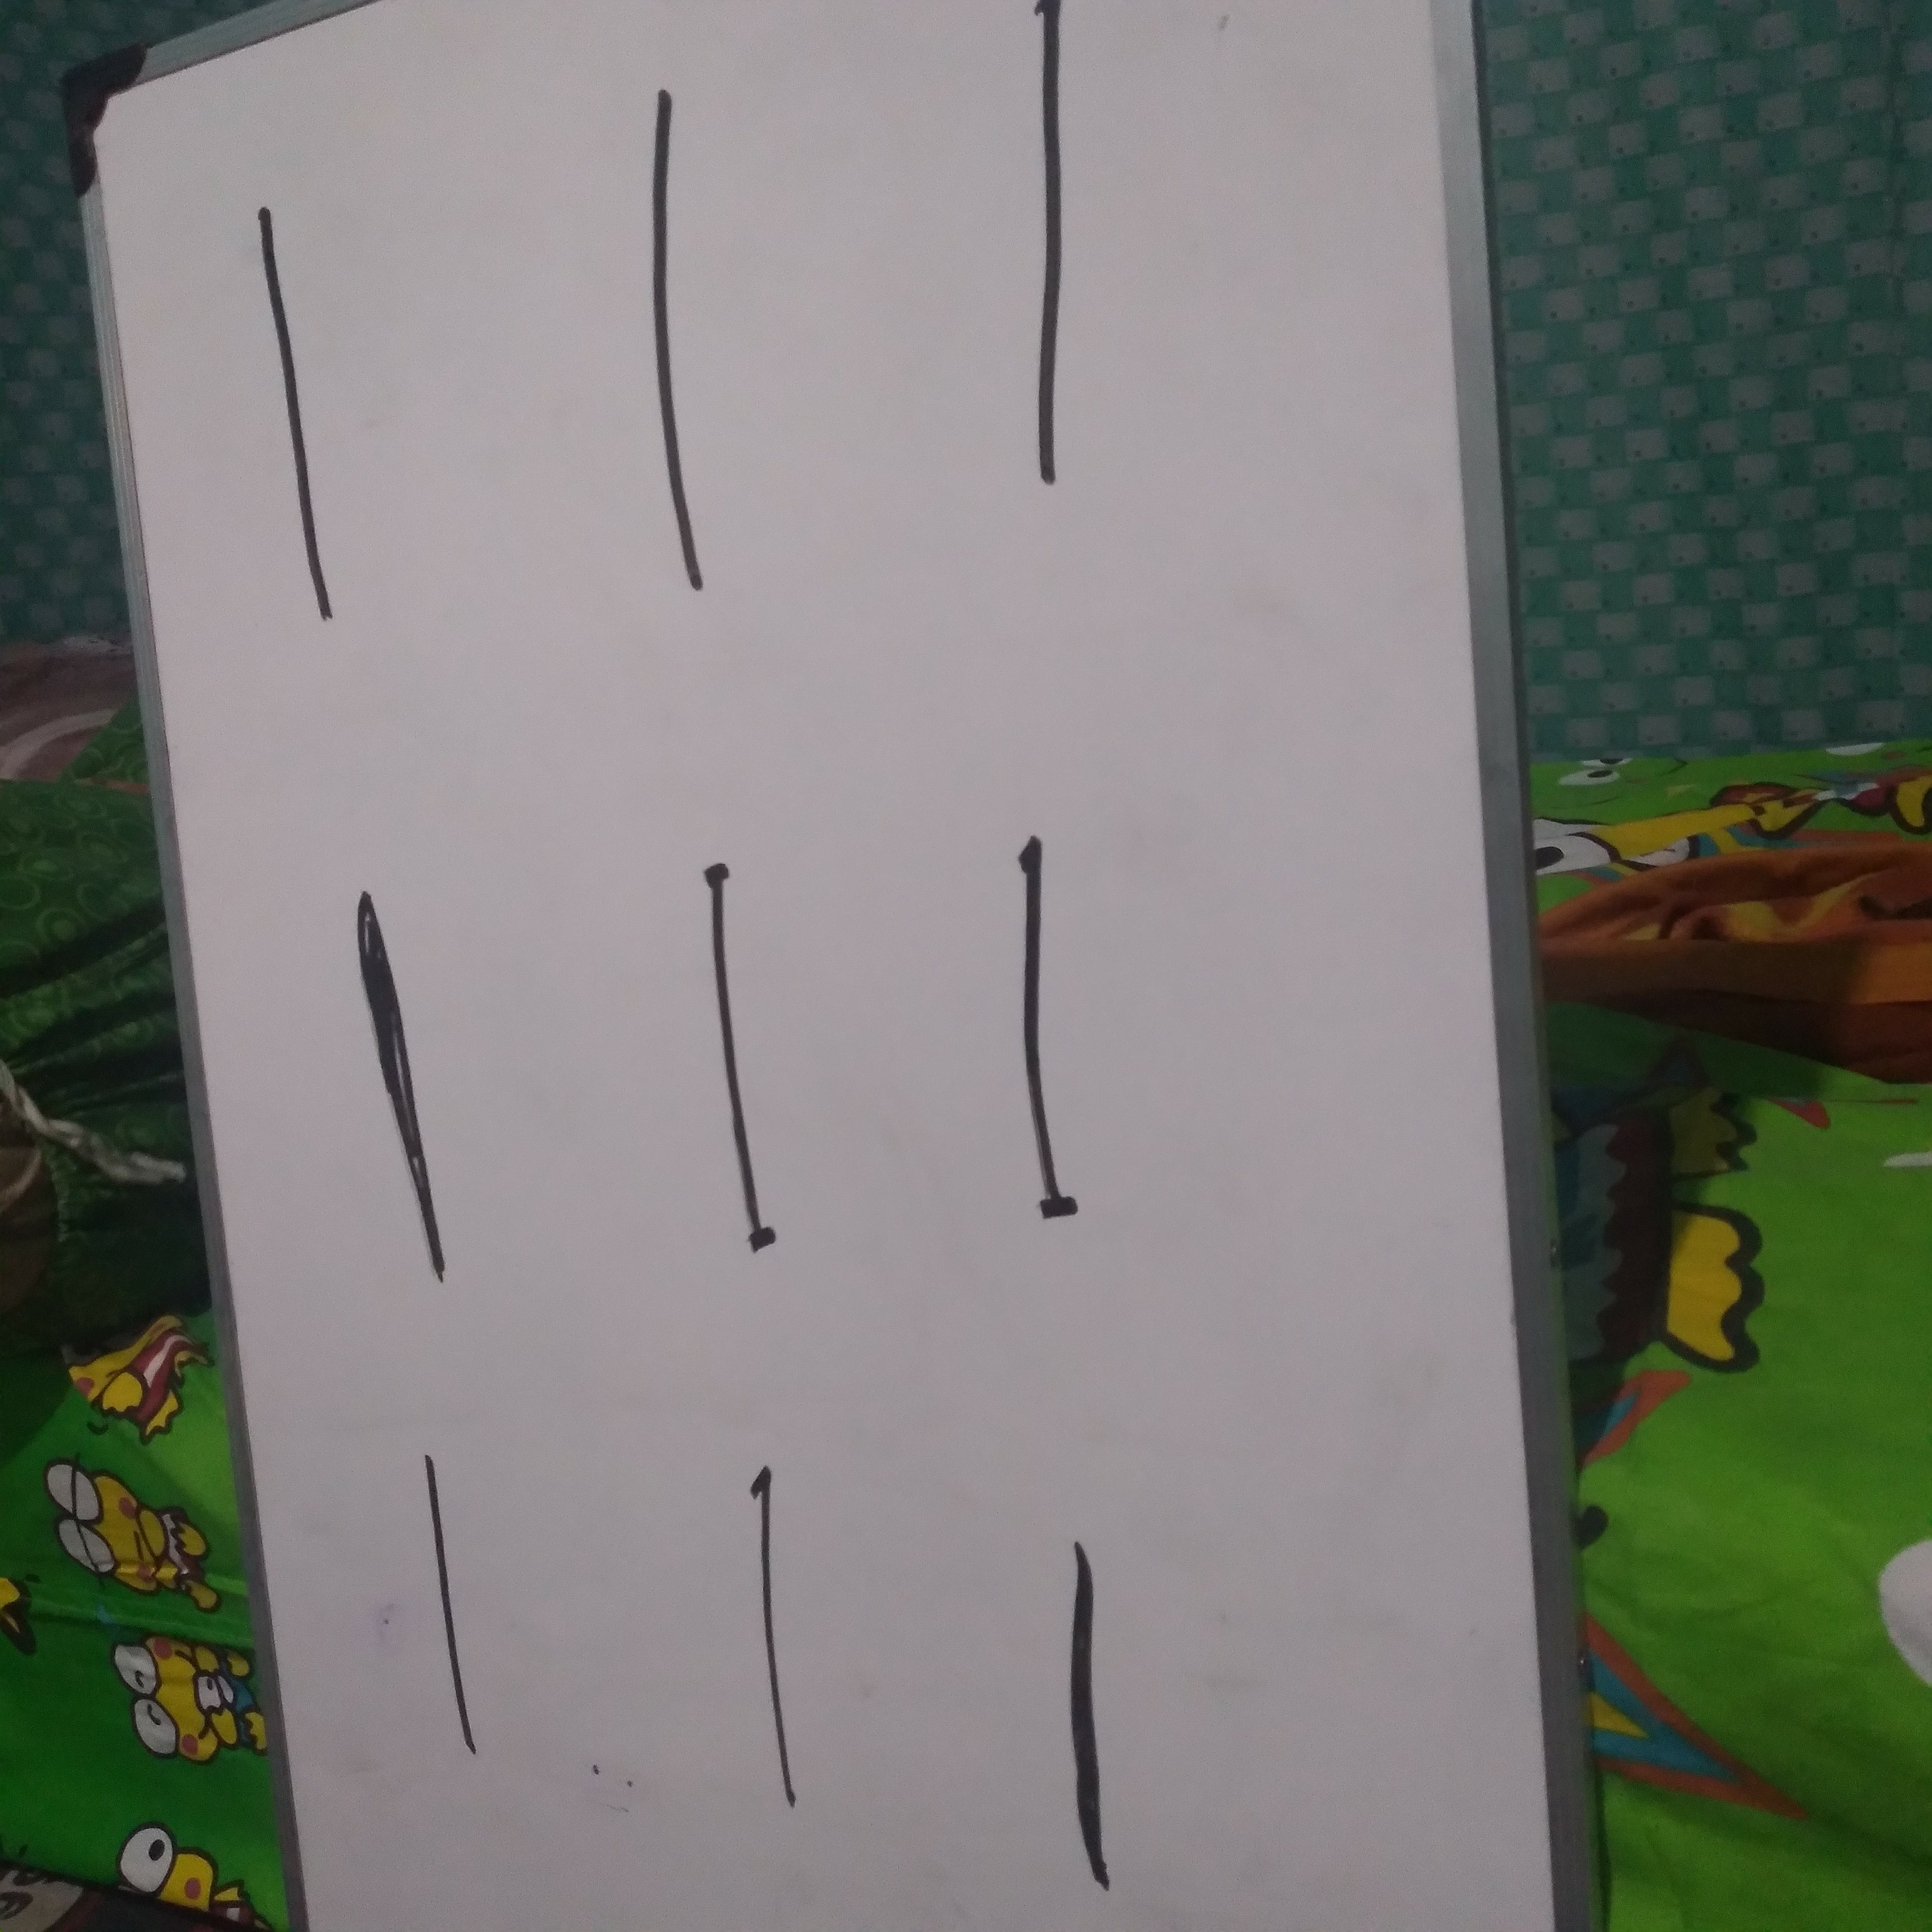num1: (598, 74, 757, 631), (967, 1, 1116, 521), (975, 742, 1125, 1263), (664, 786, 813, 1306), (348, 801, 498, 1321), (226, 172, 367, 638), (392, 1375, 481, 1829), (724, 1410, 813, 1864), (1037, 1477, 1127, 1932)
